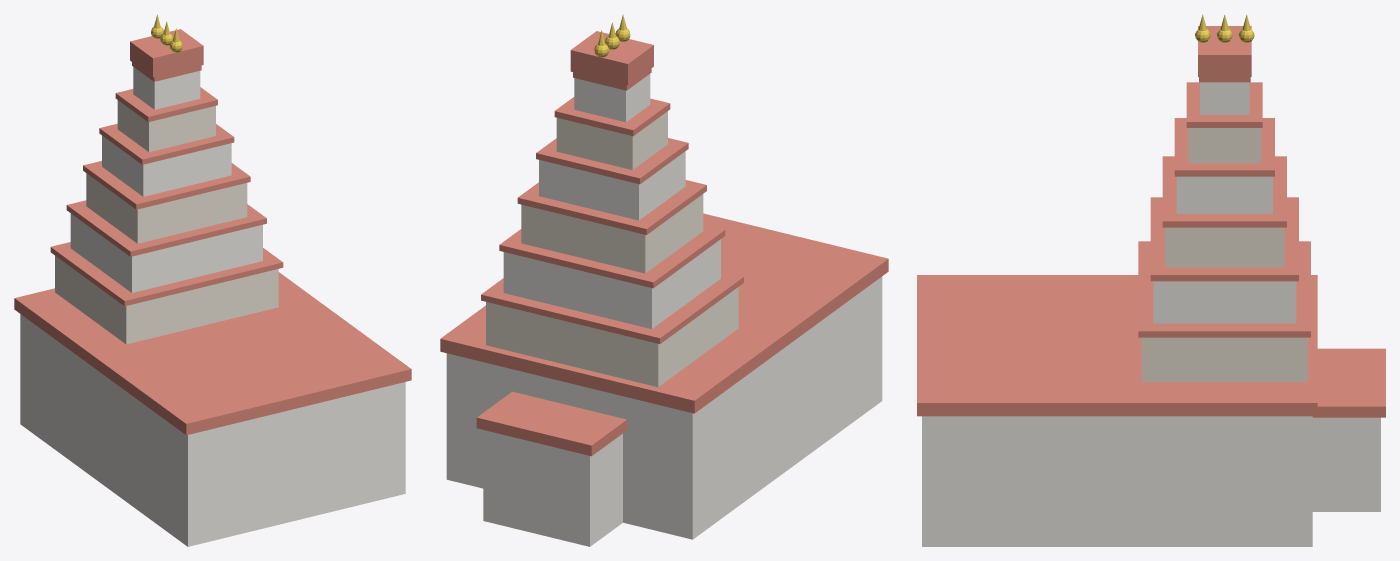
File: temple.glb
3 views of the same model, side by side, from view 1: azimuth 30°, elevation 25°; view 2: azimuth 150°, elevation 25°; view 3: azimuth 270°, elevation 25° (orthographic). The views are drawn at different scales.
Parts seen in each view (by area): view 1: temple; view 2: temple; view 3: temple.
Part boxes in pixels (<box>): temple: <box>14,14,411,546</box>; temple: <box>440,14,888,546</box>; temple: <box>917,14,1385,546</box>.
Bounding box in the file's own units: 6.2 × 10.64 × 9.6.
